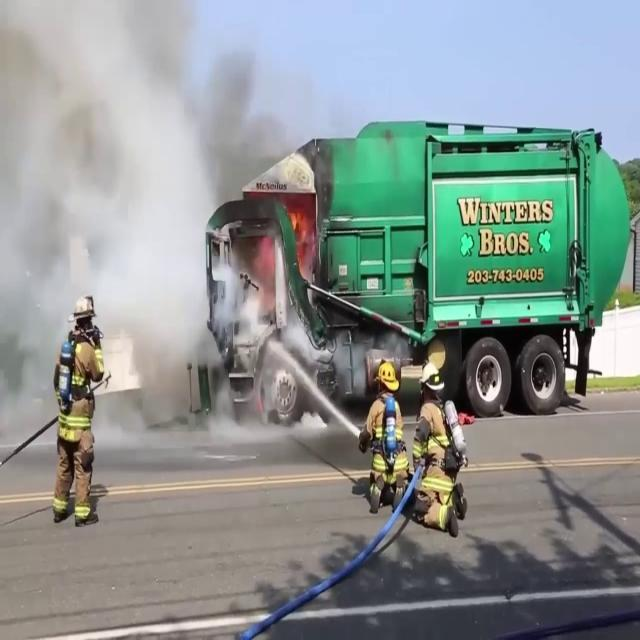Smoke: (0, 0, 261, 413)
